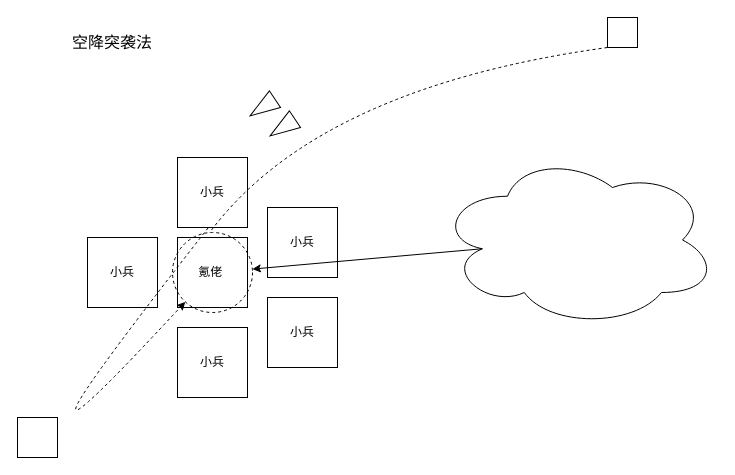
Image size: 735x475. Some labels were removed from this diagram. The centre of each missing label's shape, as x and y in pixels:
"建造中前哨" goes at (37,437).
"集结点" goes at (622,32).
"飞到目标头上直接取消建造中的前哨" goes at (577,240).
